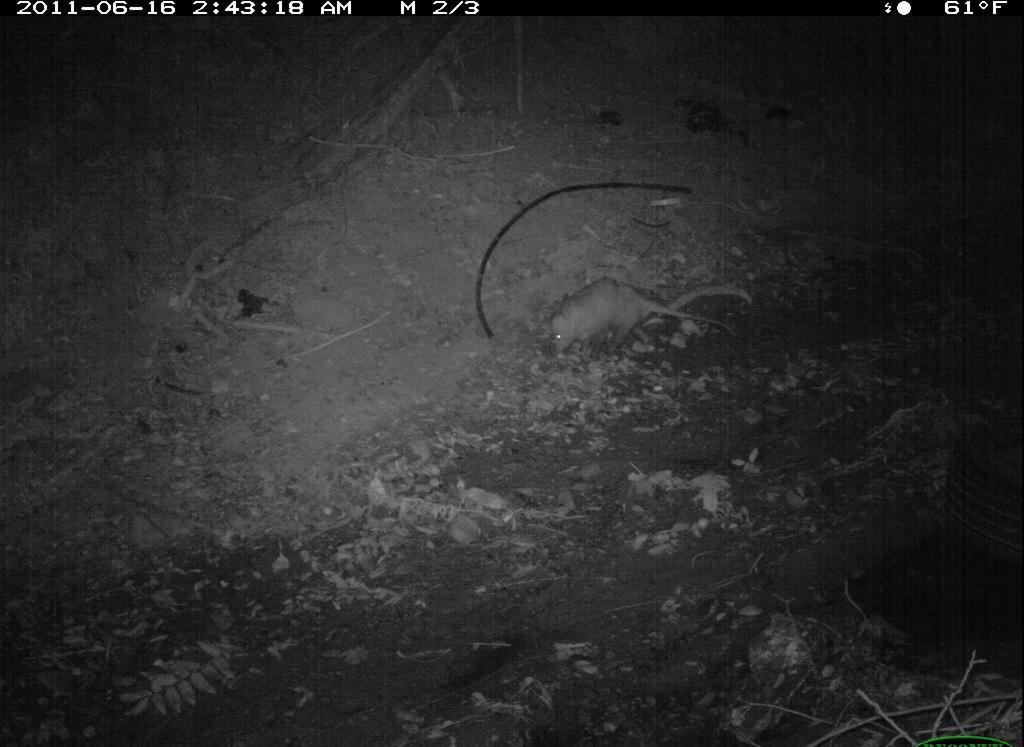opossum: (538, 276, 738, 372)
